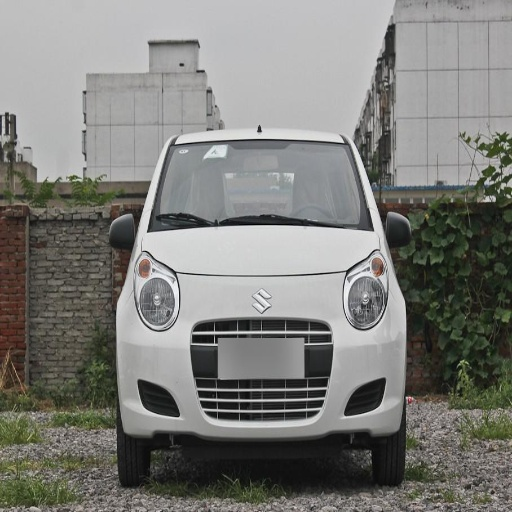front_bumper: (121, 265, 405, 441)
front_right_light: (136, 261, 178, 329)
hood: (145, 226, 378, 274)
